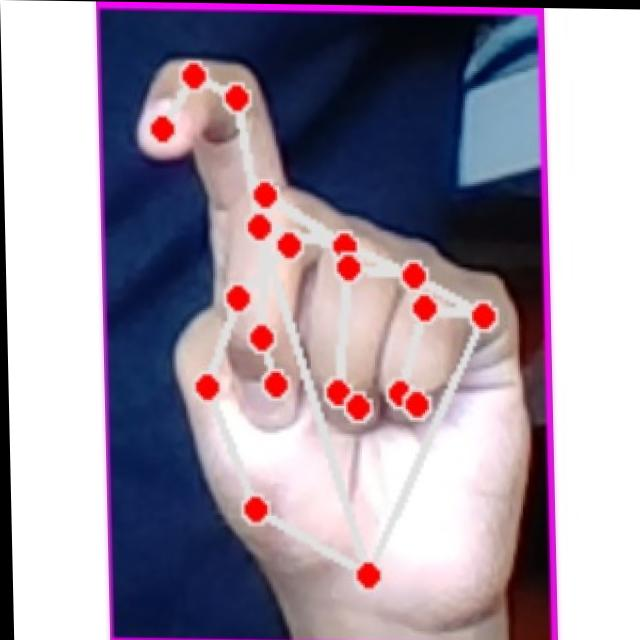Z: (120, 51, 529, 603)
